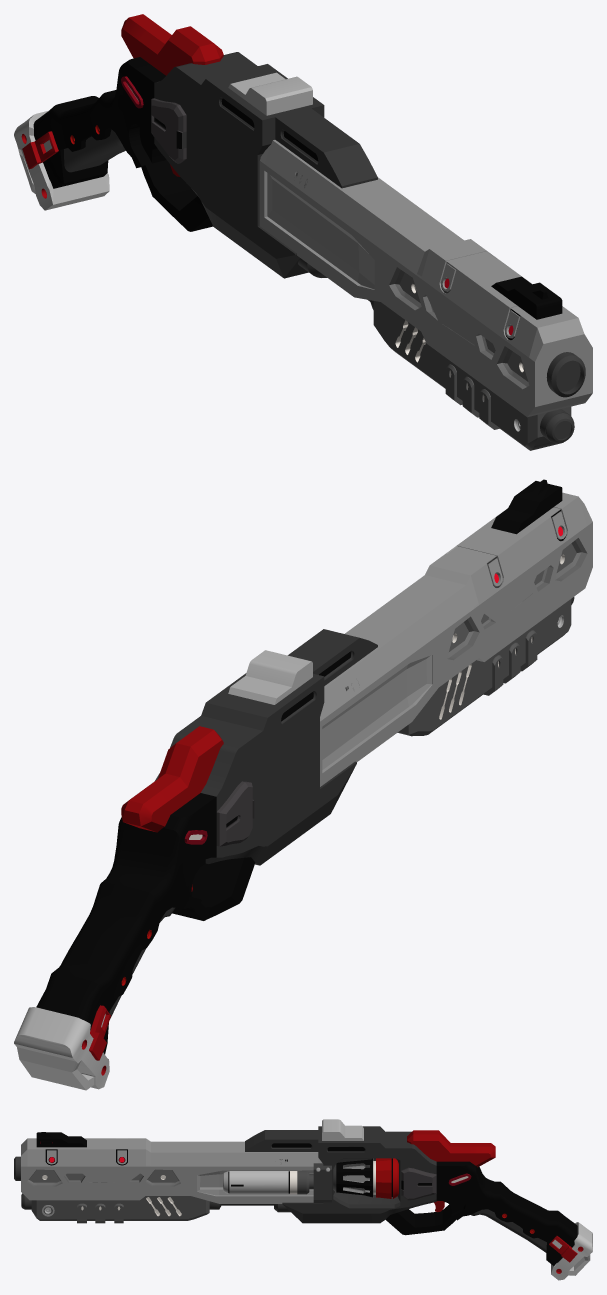
File: scifi gun 2.fbx
3 views of the same model, one above another, from view 1: azimuth 30°, elevation 25°; view 2: azimuth 150°, elevation 25°; view 3: azimuth 270°, elevation 25° (orthographic). The views are drawn at different scales.
Visible parts, largest first — view 1: scifi gun; view 2: scifi gun; view 3: scifi gun.
Boxes of the visible parts, x1,y1,x2,y2 form: scifi gun: (14, 14, 592, 450); scifi gun: (14, 479, 592, 1090); scifi gun: (14, 1119, 592, 1280).
Size of the model in its own units: 40.73 by 126 by 451.
